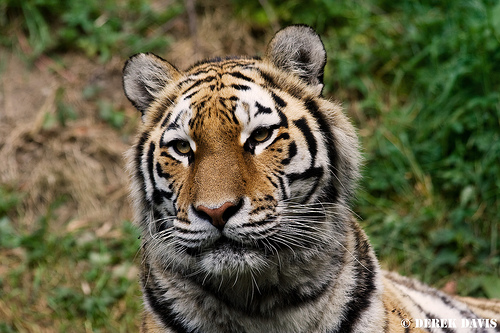Tigre: (97, 42, 399, 302)
